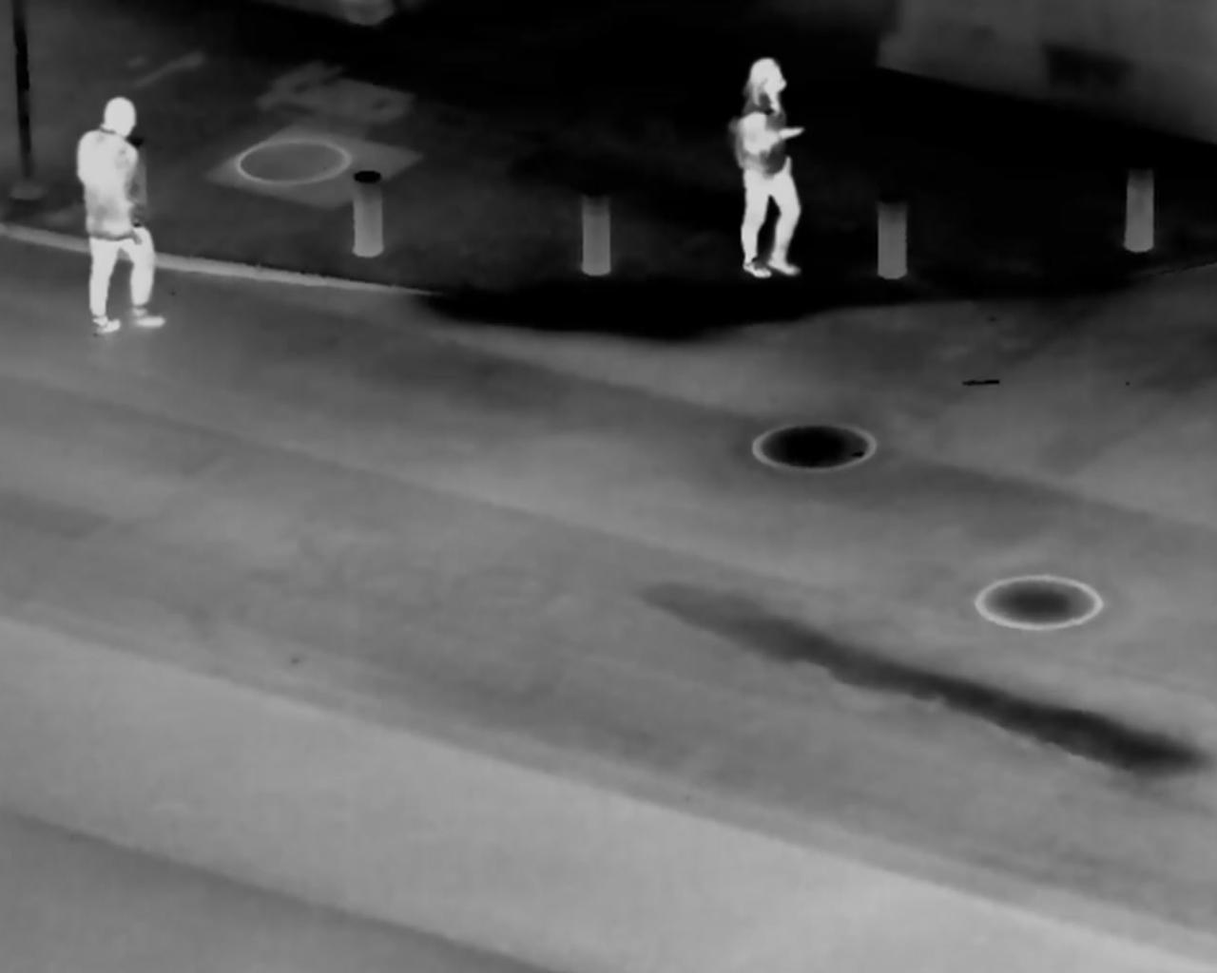person: (68, 92, 175, 341), (725, 53, 803, 277)
